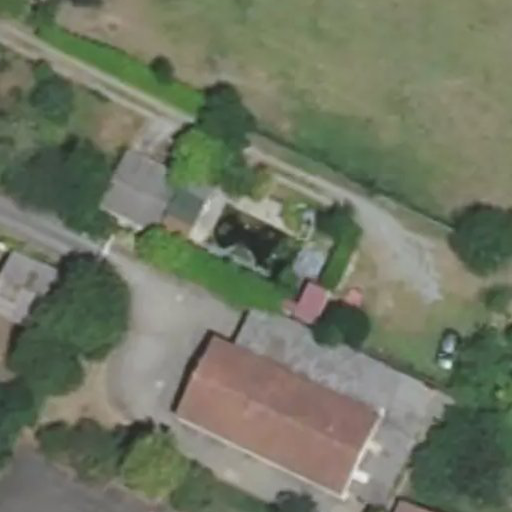pool: (215, 204, 294, 273)
